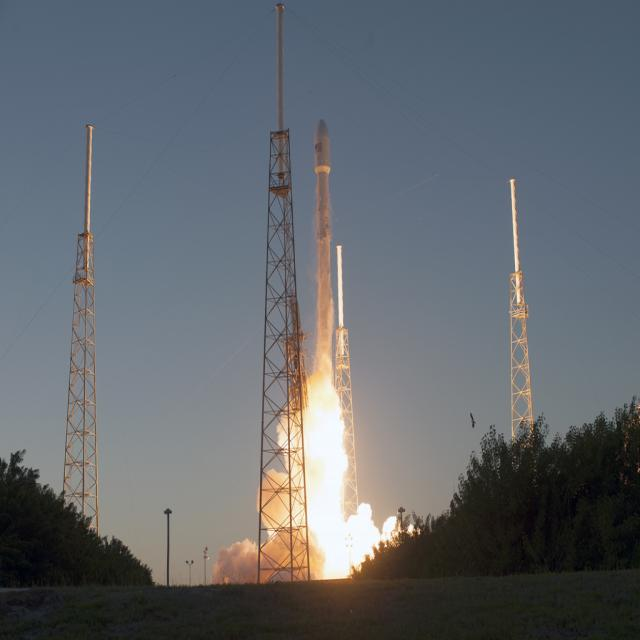rocket: (313, 117, 334, 423)
